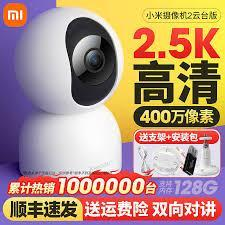maru: (10, 5, 122, 118)
